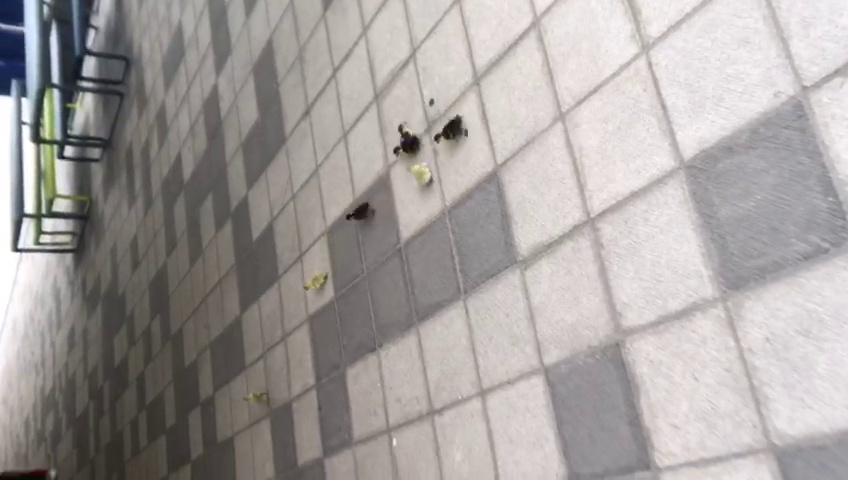patito: (432, 121, 470, 140), (410, 160, 436, 186), (344, 201, 375, 222), (391, 134, 417, 155), (303, 270, 328, 291), (395, 118, 413, 142), (245, 391, 271, 406)
